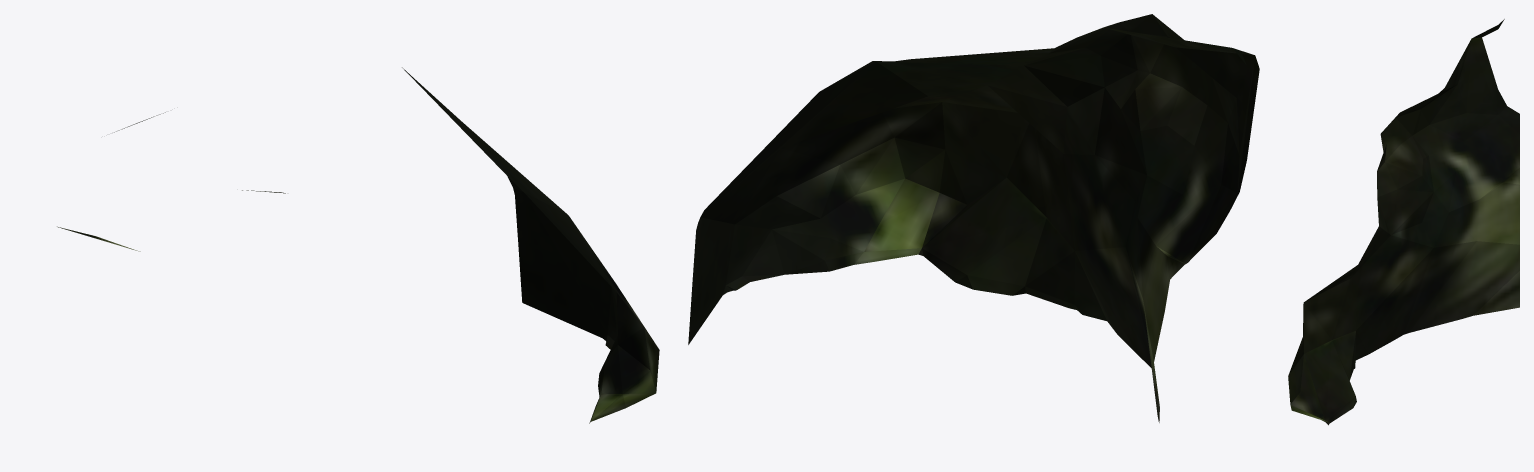
The picture shows the model from 3 angles, left to right: view 1: azimuth 30°, elevation 25°; view 2: azimuth 150°, elevation 25°; view 3: azimuth 270°, elevation 25°; orthographic projection. The views are drawn at different scales.
Size of the model in its own units: 0.7474 by 0.5325 by 0.4164.
1 material, 1 textured.
